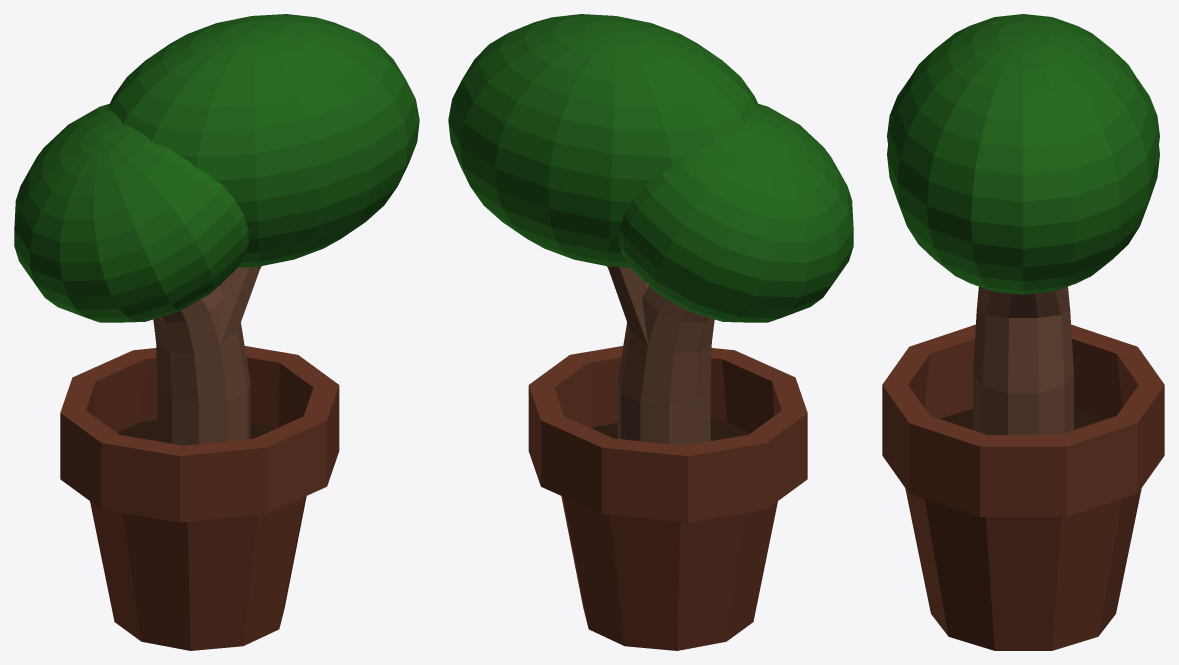
Rendered from Vaso com arvore.fbx.
3 views of the same model, side by side, from view 1: azimuth 30°, elevation 25°; view 2: azimuth 150°, elevation 25°; view 3: azimuth 270°, elevation 25° (orthographic). The views are drawn at different scales.
Parts seen in each view (by area): view 1: Arvore, Jarro; view 2: Arvore, Jarro; view 3: Arvore, Jarro.
Boxes of the visible parts, x1,y1,x2,y2 form: Arvore: [14, 14, 419, 445]; Jarro: [60, 346, 339, 650]; Arvore: [448, 14, 853, 445]; Jarro: [528, 346, 807, 650]; Arvore: [887, 14, 1159, 434]; Jarro: [882, 324, 1164, 650].
Bounding box in the file's own units: 499 × 723 × 305.
